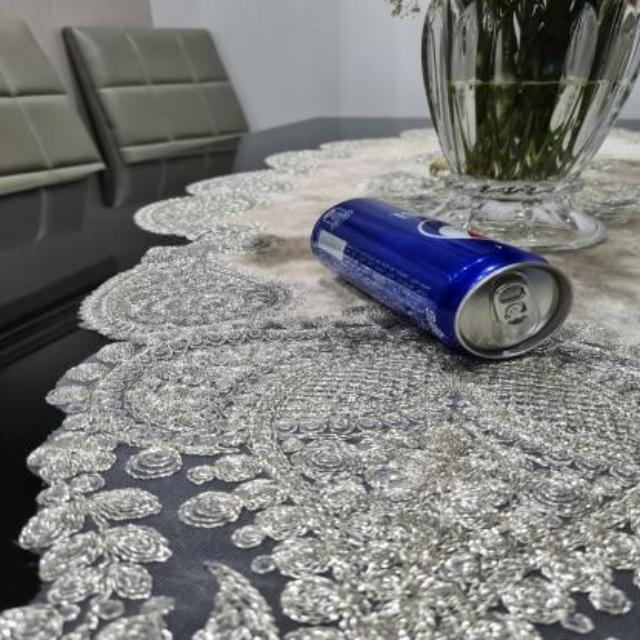metal: (309, 197, 569, 355)
